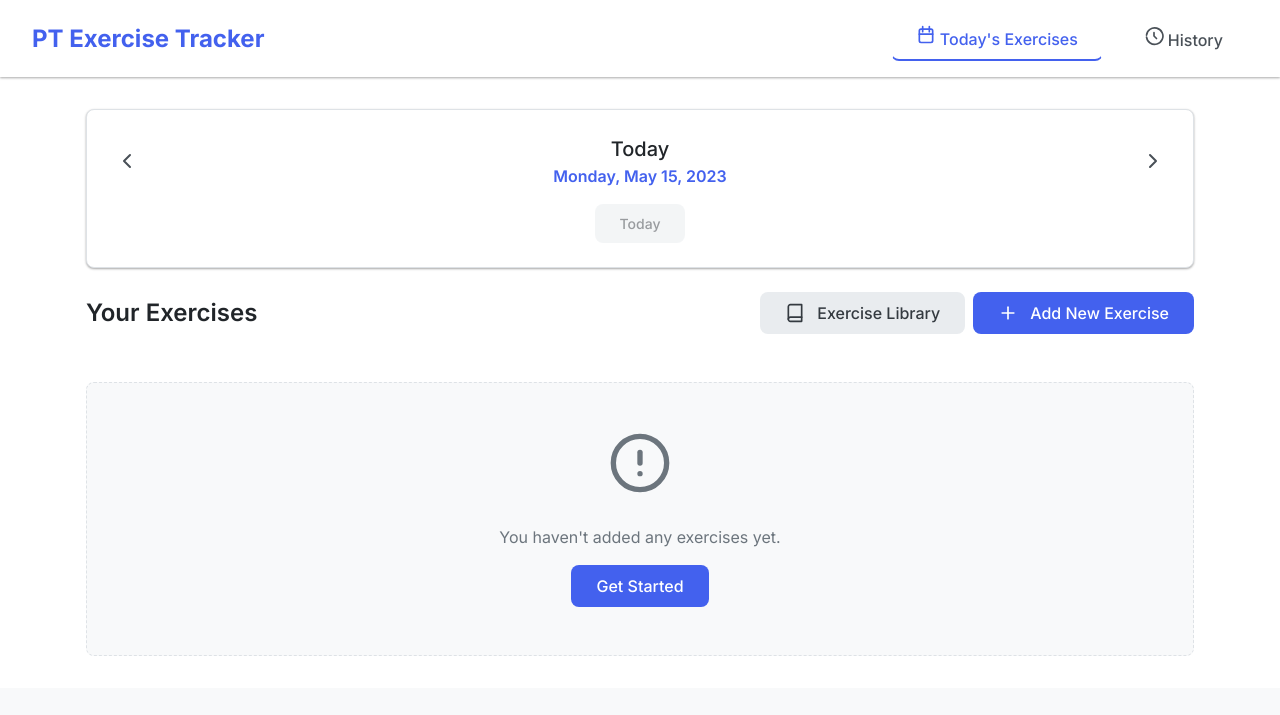
Test: Integration Tests › Editing and Deleting Exercises › should allow editing an existing exercise
The image size is (1280, 715).
// Add an exercise
Click the button "Add New Exercise". click: (1084, 313)
box: x1=973 y1=292 x2=1194 y2=334
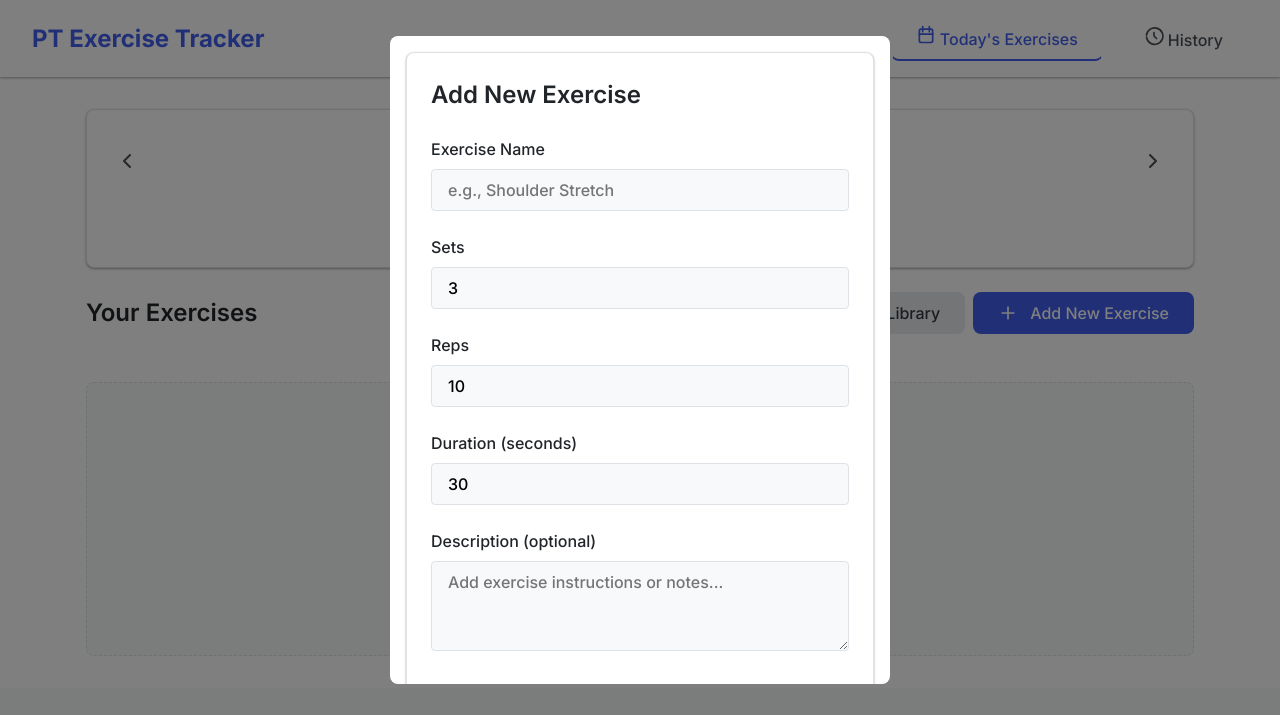
Type "Lunges" into the field labelled "Exercise Name". click: (640, 190)
box: x1=431 y1=169 x2=849 y2=211
(page scrolled)
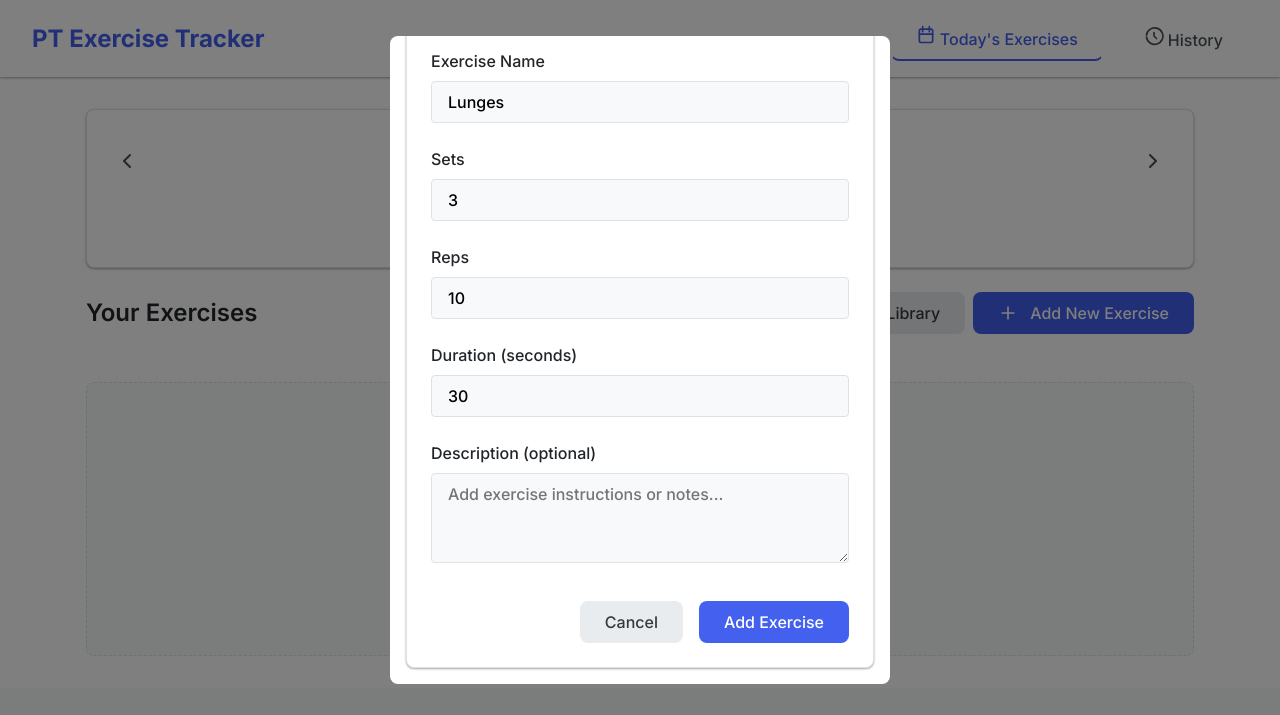
Click the button "Add Exercise". click: (774, 622)
box: x1=699 y1=601 x2=849 y2=643
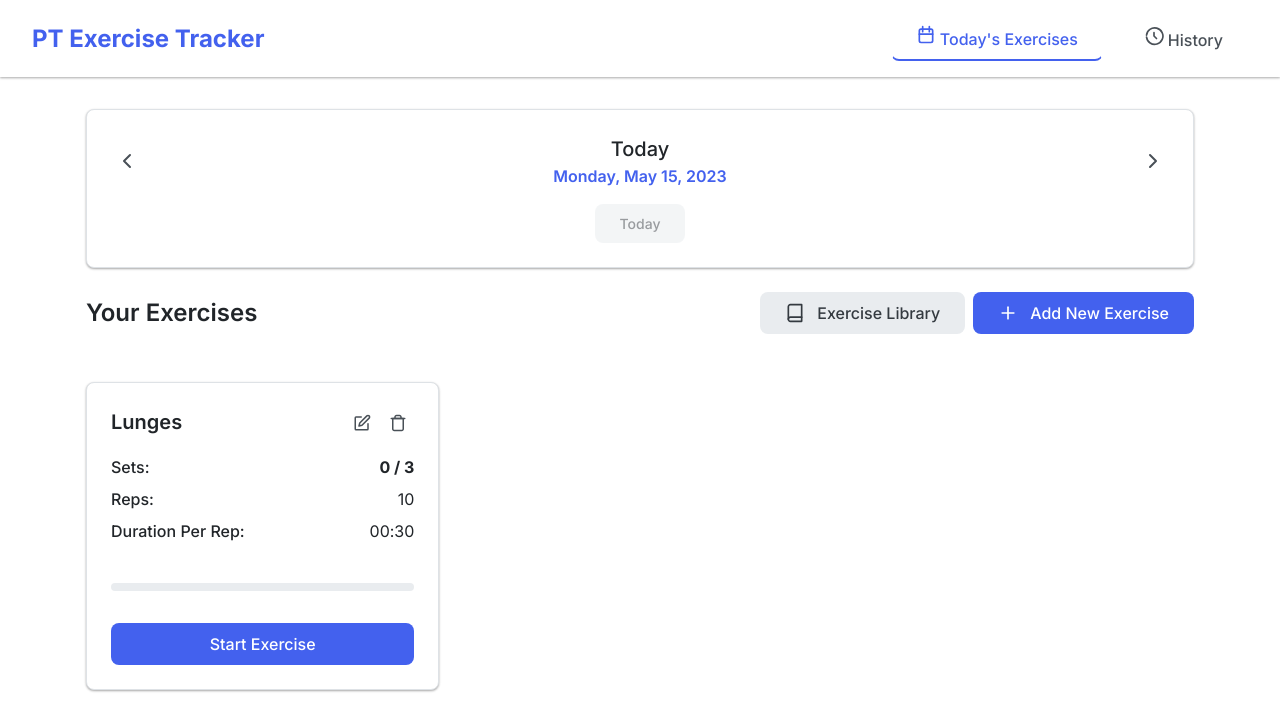
// Click the edit button
Click the button named "Edit exercise". click: (362, 423)
box: x1=346 y1=407 x2=378 y2=439
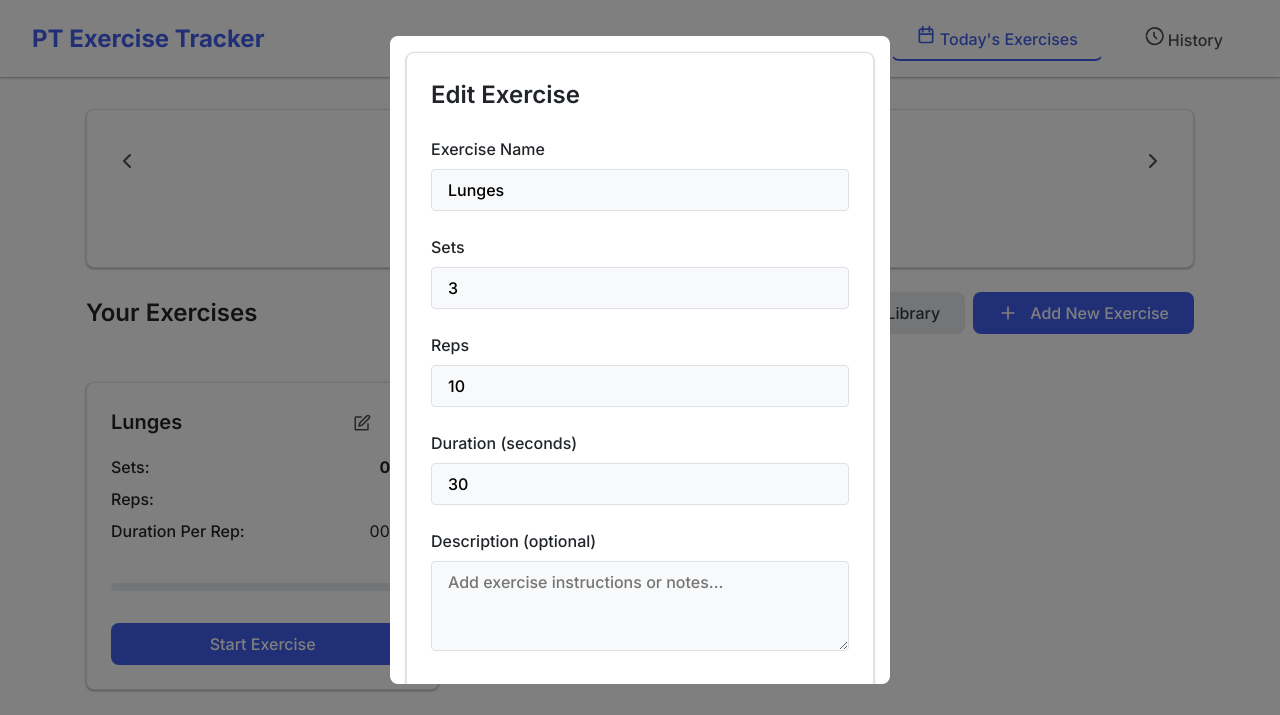
// Update the exercise name
Replace the text in the field labelled "Exercise Name" with "Modified Lunges". click: (640, 190)
box: x1=431 y1=169 x2=849 y2=211
(page scrolled)
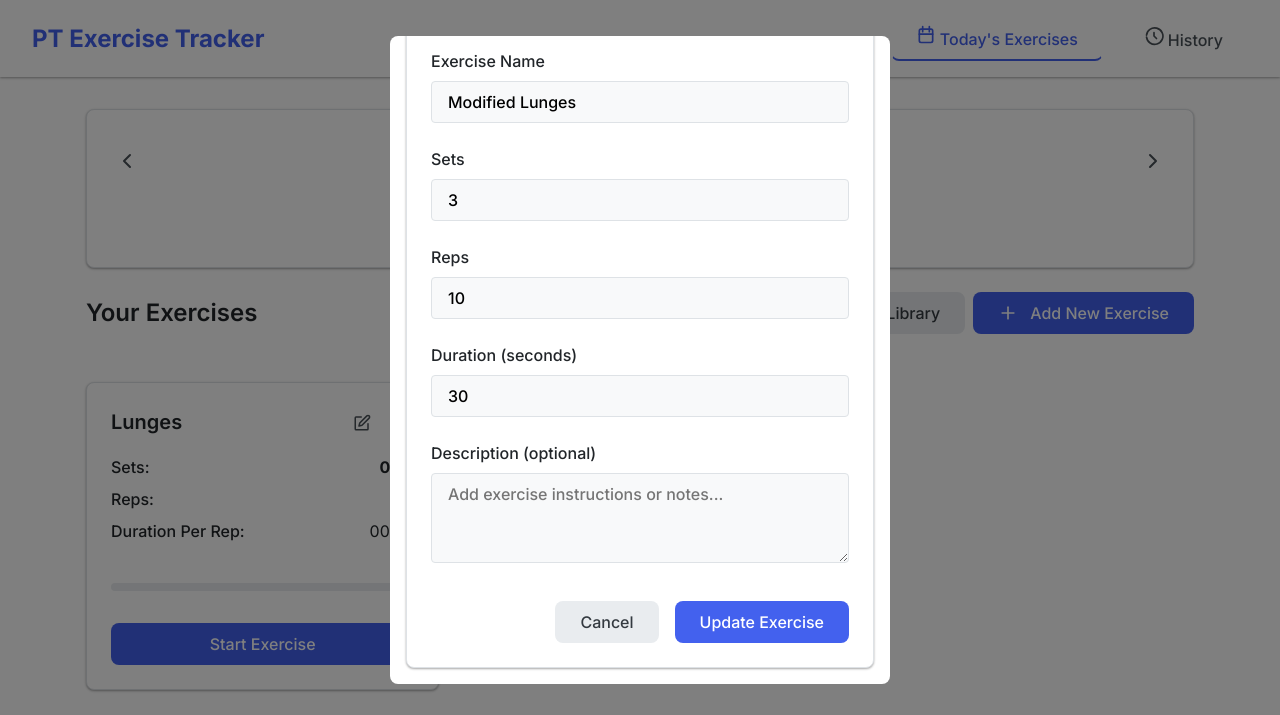
// Submit the form
Click the button "Update Exercise". click: (762, 622)
box: x1=674 y1=601 x2=849 y2=643
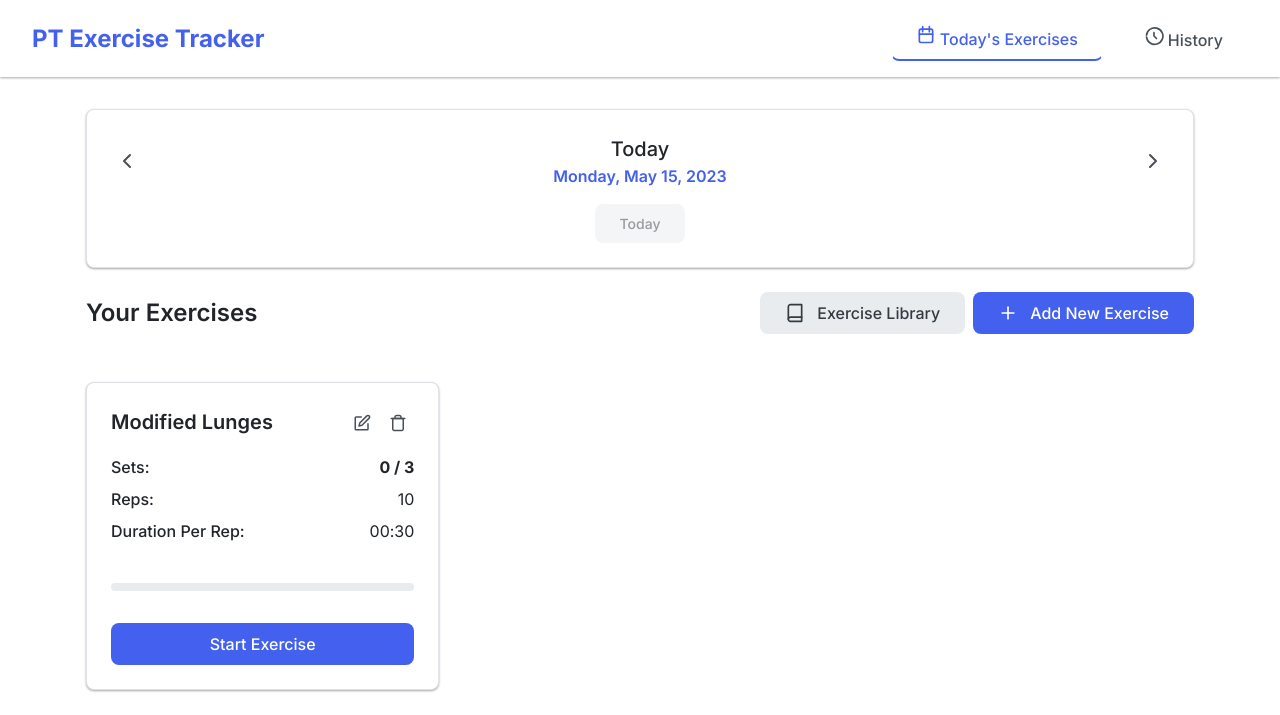
Now the heading "Modified Lunges" is shown, box x1=111 y1=407 x2=273 y2=437
